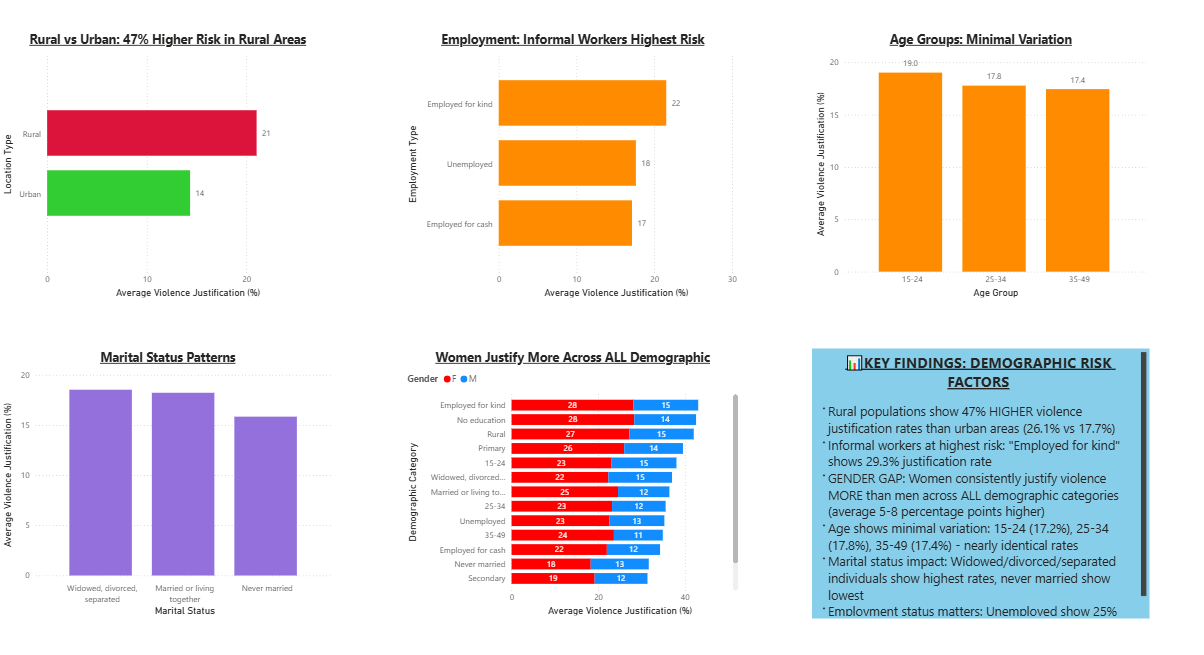

The page's visual inventory and layout, read from the dashboard file:
{"tool":"powerbi","page":{"name":"WHO IS AT RISK?","canvas":[1800,1000],"ordinal":1},"visuals":[{"type":"clusteredBarChart","title":"Rural vs Urban: 47% Higher Risk in Rural Areas","fields":{"Category":["violence_data.Demographics Response"],"Y":["Avg(violence_data.Value)"]},"box":[9.5,50,500,400],"z":0},{"type":"clusteredBarChart","title":"Employment: Informal Workers Highest Risk","fields":{"Category":["violence_data.Demographics Response"],"Y":["Avg(violence_data.Value)"]},"box":[609.5,50,500,400],"z":1000},{"type":"clusteredColumnChart","title":"Age Groups: Minimal Variation","fields":{"Category":["violence_data.Demographics Response"],"Y":["Avg(violence_data.Value)"]},"box":[1214.3,50,500,400],"z":2000},{"type":"clusteredColumnChart","title":"Marital Status Patterns","fields":{"Category":["violence_data.Demographics Response"],"Y":["Avg(violence_data.Value)"]},"box":[9.5,521.4,500,400],"z":3000},{"type":"barChart","title":"Women Justify More Across ALL Demographic","fields":{"Category":["violence_data.Demographics Response"],"Series":["violence_data.Gender"],"Y":["Avg(violence_data.Value)"]},"box":[609.5,521.4,500,400],"z":4000},{"type":"textbox","box":[1214.3,521.4,500,400],"z":5000}]}

Visuals, with their boxes in screenshot pixels (x1, y1, x2, y2), scaled from the page's 1800x1000 canvas onto the 1204x655 screenshot:
"Rural vs Urban: 47% Higher Risk in Rural Areas" clusteredBarChart: 6/33/341/295
"Employment: Informal Workers Highest Risk" clusteredBarChart: 408/33/742/295
"Age Groups: Minimal Variation" clusteredColumnChart: 812/33/1147/295
"Marital Status Patterns" clusteredColumnChart: 6/342/341/604
"Women Justify More Across ALL Demographic" barChart: 408/342/742/604
textbox: 812/342/1147/604
